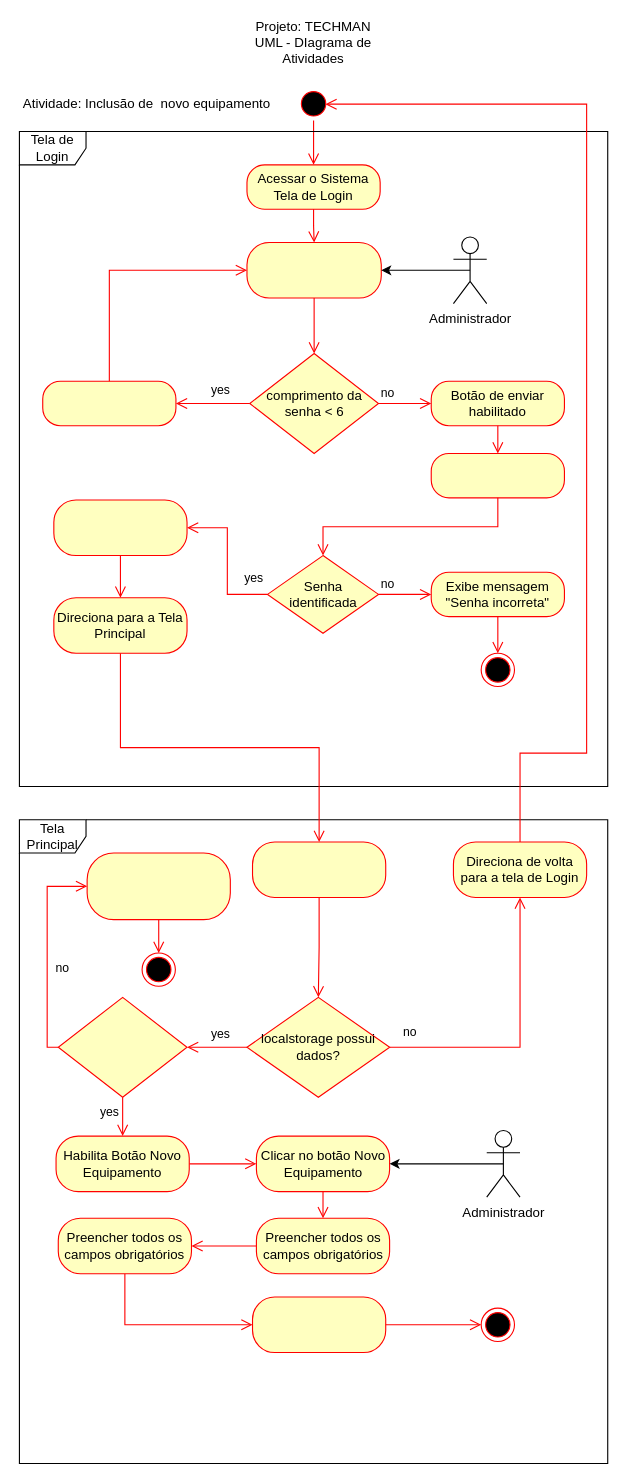
Image size: 627x1483. Some labels were removed from this diagram. The shapes that lost their labels are listed below. From the top down, each one's box as (x1, y1, x2, y2) in pixels, then its label:
(246, 241, 381, 298): Informar a senha através do teclado virtual
(42, 380, 176, 426): Botão de enviar desabilitado
(430, 452, 564, 498): Clicar em Enviar
(53, 499, 187, 556): Armazena os dados do usuário no localstorage
(86, 852, 230, 920): Disponibiliza somente funcionalidades de leitura
(251, 841, 386, 897): Le os dados do localstorage
(57, 996, 187, 1097): perfil == 2 (Administrador)
(251, 1296, 386, 1353): Clicar em Cadastrar
